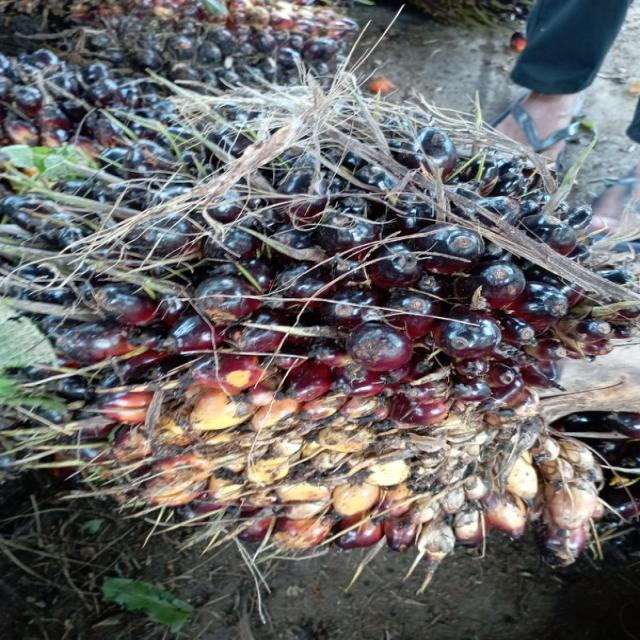fraksi 00: (15, 48, 623, 593)
